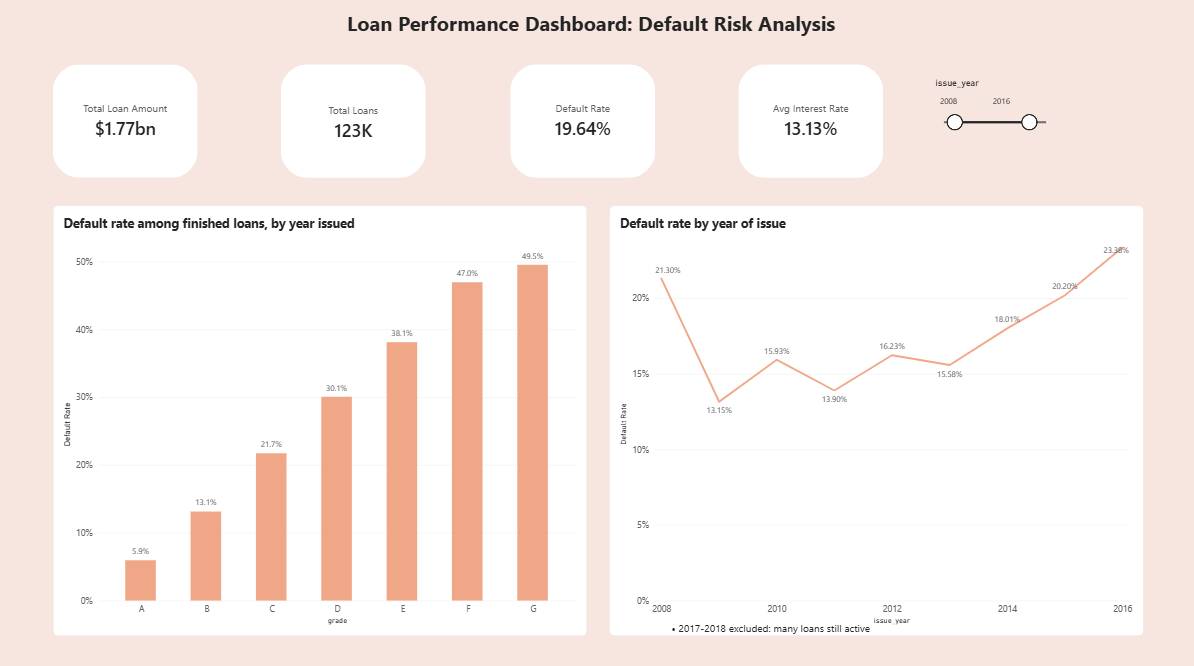

Layout of this report page (visuals, bound fields, positions):
{"tool":"powerbi","page":{"name":"Overview","canvas":[1920,1080],"ordinal":0},"visuals":[{"type":"cardVisual","fields":{"Data":["loans.Total Loan Amount"]},"box":[100.2,116.9,230,180],"z":0},{"type":"cardVisual","fields":{"Data":["loans.Total Loans"]},"box":[463.7,116.9,230,180],"z":1000},{"type":"cardVisual","fields":{"Data":["loans.Default Rate"]},"box":[827.1,116.9,230,180],"z":2000},{"type":"cardVisual","fields":{"Data":["loans.Avg Interest Rate"]},"box":[1190.6,116.9,230,180],"z":3000},{"type":"clusteredColumnChart","title":"Default rate among finished loans, by year issued","fields":{"Category":["loans.grade"],"Y":["loans.Default Rate"]},"box":[100.2,341.2,849.4,684.8],"z":4000},{"type":"lineChart","title":"Default rate by year of issue","fields":{"Category":["loans.issue_year"],"Y":["loans.Default Rate"]},"box":[985.4,341.2,849.4,684.8],"z":5000},{"type":"textbox","box":[567.8,28.6,837.5,140.8],"z":6000},{"type":"slicer","fields":{"Values":["loans.issue_year"]},"box":[1495.2,139.2,202.8,150.3],"z":7000},{"type":"textbox","box":[1071.3,1002.1,408,78.7],"z":11000}]}

Visuals, with their boxes in screenshot pixels (x1, y1, x2, y2), scaled from the page's 1920x1080 canvas onto the 1194x666 screenshot:
cardVisual - loans.Total Loan Amount: bbox=(62, 72, 205, 183)
cardVisual - loans.Total Loans: bbox=(288, 72, 431, 183)
cardVisual - loans.Default Rate: bbox=(514, 72, 657, 183)
cardVisual - loans.Avg Interest Rate: bbox=(740, 72, 883, 183)
"Default rate among finished loans, by year issued" clusteredColumnChart: bbox=(62, 210, 591, 633)
"Default rate by year of issue" lineChart: bbox=(613, 210, 1141, 633)
textbox: bbox=(353, 18, 874, 104)
slicer - loans.issue_year: bbox=(930, 86, 1056, 179)
textbox: bbox=(666, 618, 920, 665)
